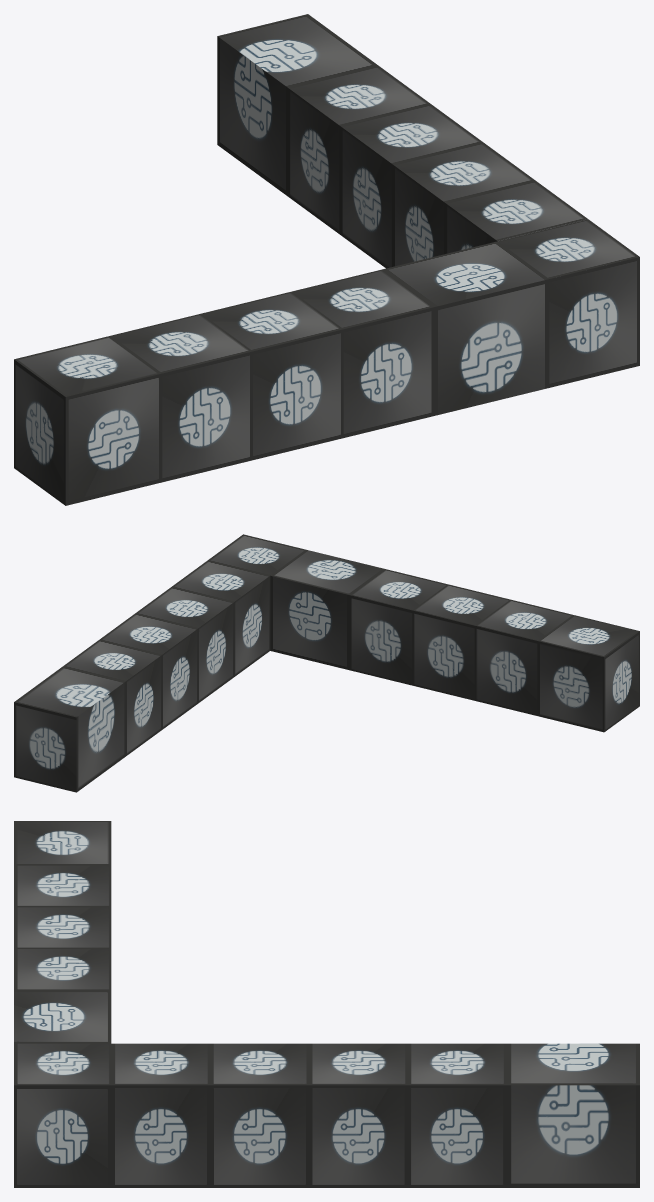
The model's file is Nivel3MPF2.fbx.
3 views of the same model, one above another, from view 1: azimuth 30°, elevation 25°; view 2: azimuth 150°, elevation 25°; view 3: azimuth 270°, elevation 25° (orthographic). The views are drawn at different scales.
Parts seen in each view (by area): view 1: pCube9; view 2: pCube9; view 3: pCube9.
Part boxes in pixels (<box>): pCube9: <box>14,14,639,505</box>; pCube9: <box>14,534,639,792</box>; pCube9: <box>14,821,639,1187</box>.
Size of the model in its own units: 3.55 by 0.6425 by 3.55.
Materials: 1 (1 with a texture image).
